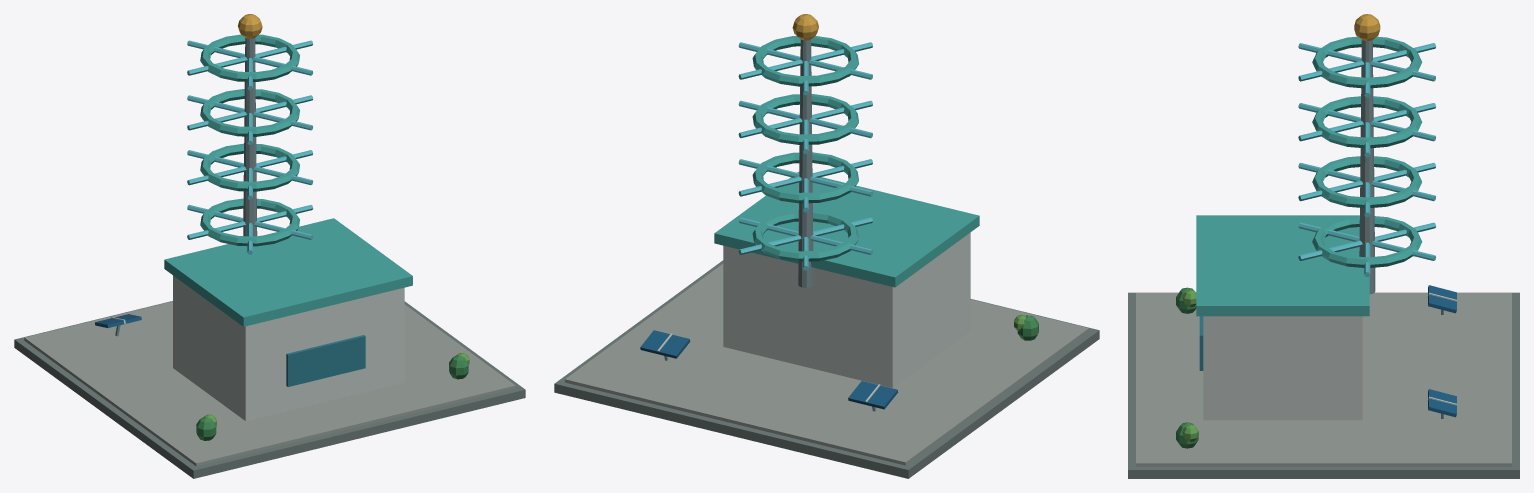
The model's file is uv_station_lv2.glb.
3 views of the same model, side by side, from view 1: azimuth 30°, elevation 25°; view 2: azimuth 150°, elevation 25°; view 3: azimuth 270°, elevation 25° (orthographic). The views are drawn at different scales.
Parts seen in each view (by area): view 1: rough, glossy, metallic; view 2: rough, glossy, metallic; view 3: rough, glossy, metallic.
Part boxes in pixels (x1,y1,x2,y2): rough: (14, 14, 525, 478); glossy: (187, 40, 365, 386); metallic: (95, 38, 257, 336); rough: (554, 14, 1099, 478); glossy: (738, 42, 872, 270); metallic: (640, 39, 898, 411); rough: (1128, 14, 1519, 478); glossy: (1199, 43, 1435, 370); metallic: (1359, 40, 1456, 418).
Bounding box in the file's own units: 9.2 × 9.09 × 8.6.
